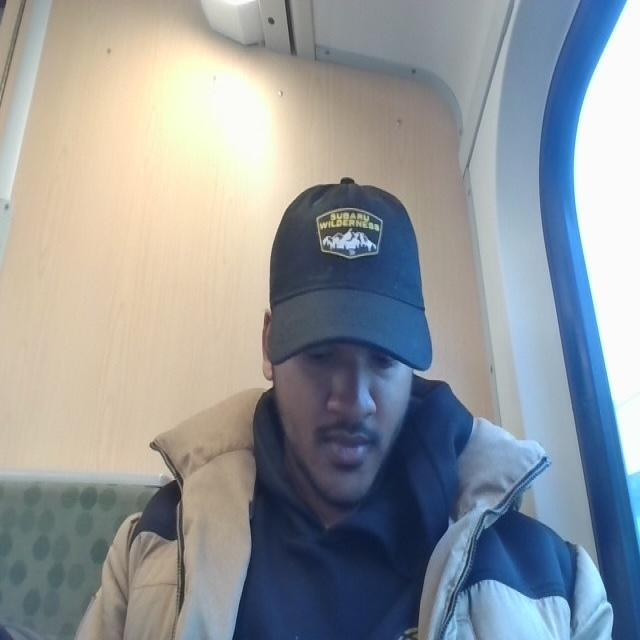hat: (251, 170, 447, 378)
